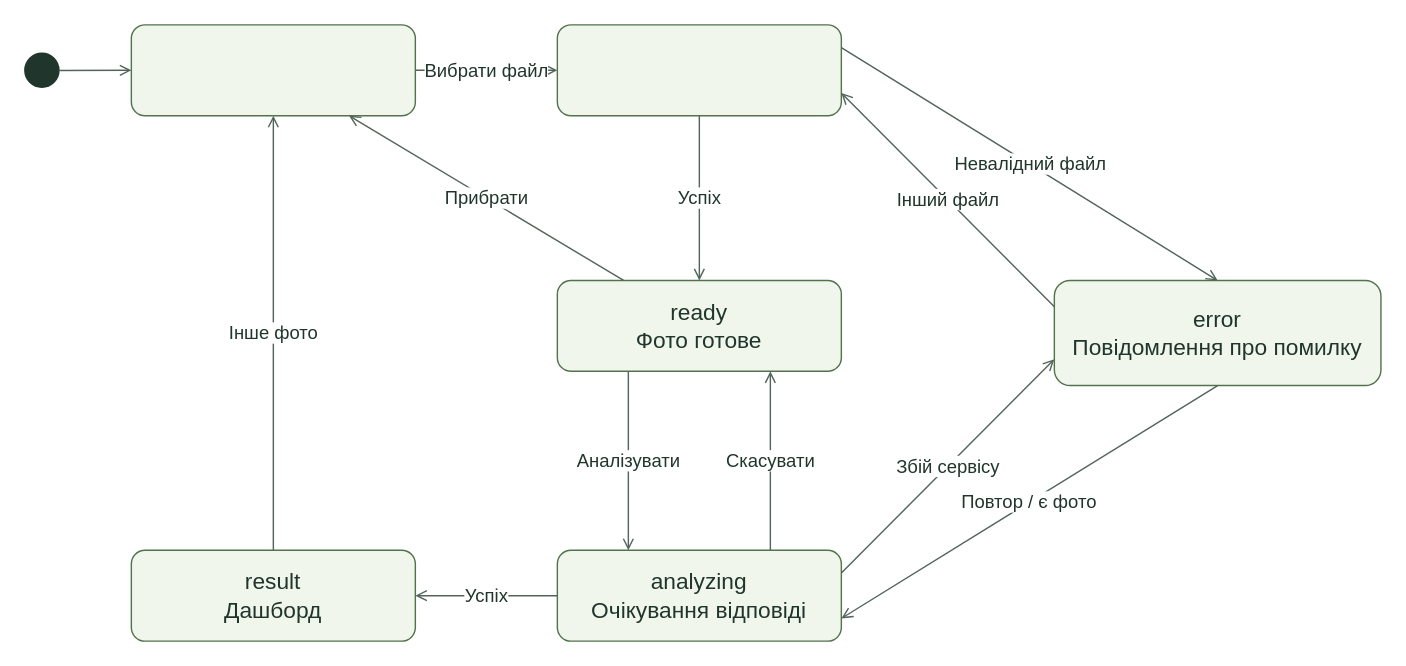
The diagram is 1406 pixels wide and 666 high, and some of its shapes have lost their labels. Each missing label, with the centre of its shape:
idle Очікування фото: the point at 272,69
validating Перевірка файла: the point at 698,69
